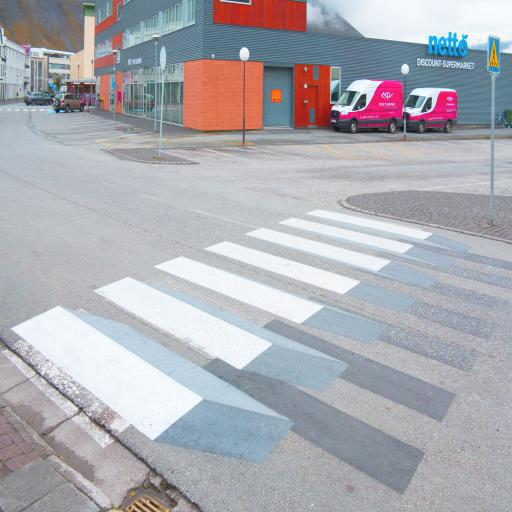crosswalk: (91, 253, 330, 376)
